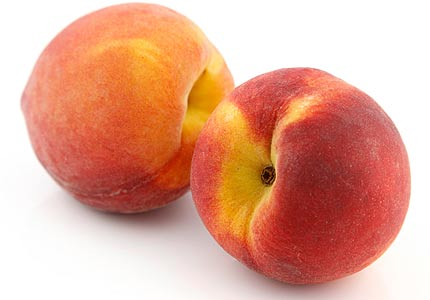peach: (202, 73, 404, 276), (27, 3, 210, 222)
